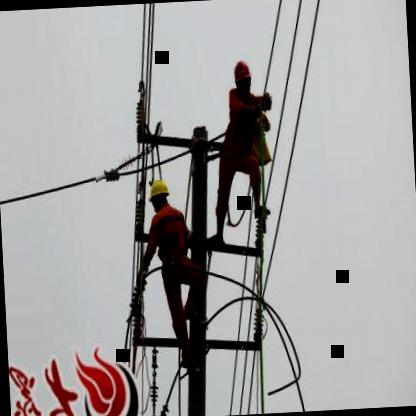helmet: (145, 174, 173, 212), (230, 58, 254, 96)
